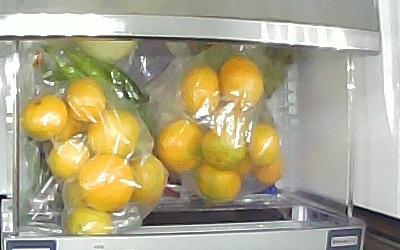tangerine_vinyl: (81, 155, 134, 211), (156, 120, 203, 174), (89, 111, 142, 156), (220, 57, 263, 111), (177, 64, 220, 115), (21, 95, 65, 141), (64, 78, 107, 125), (205, 123, 248, 170), (130, 153, 165, 207), (195, 164, 241, 205), (65, 206, 116, 238), (48, 139, 90, 177), (247, 123, 280, 168), (255, 158, 284, 188), (68, 182, 86, 211)
